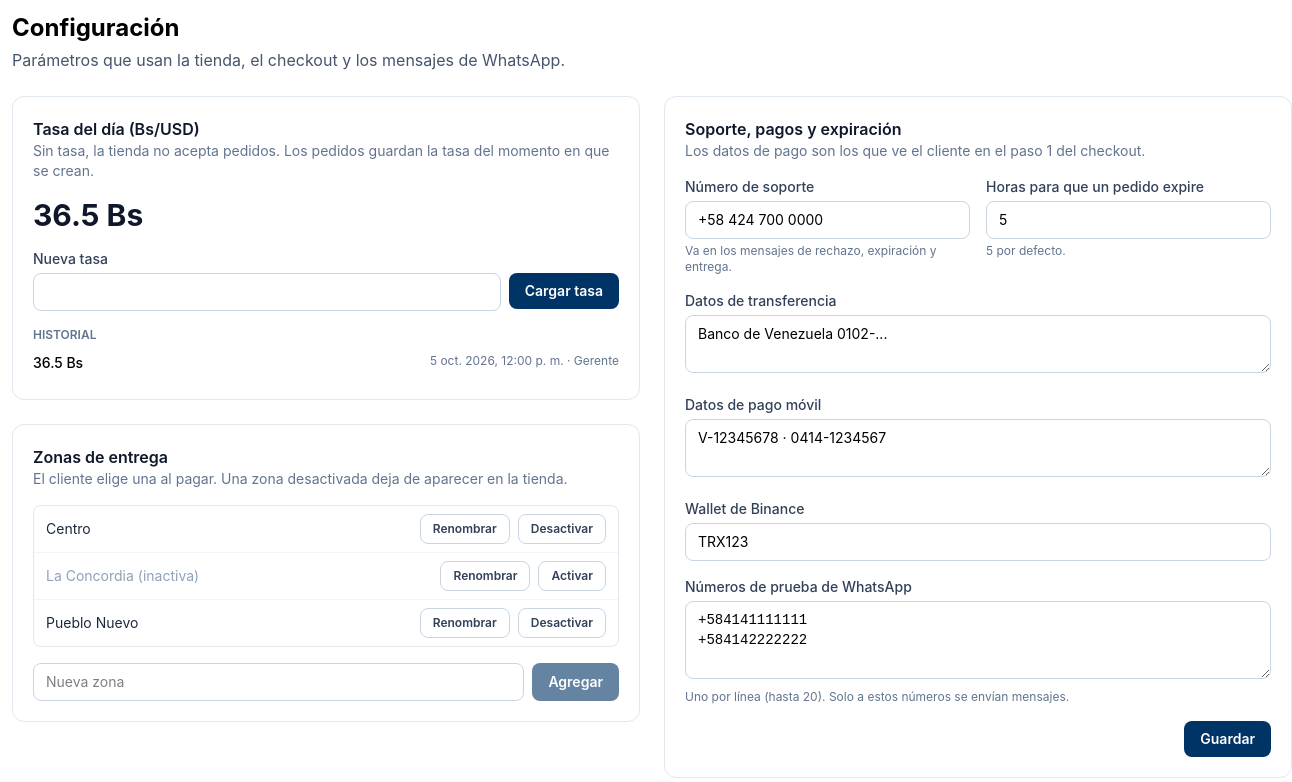
Test: Configuracion: tasa del día › guarda la nueva tasa, avisa y recarga la configuración y el historial
Step 1. Type "37.25" into the number field labelled "Nueva tasa" → (267,292), box [33,273,501,311]
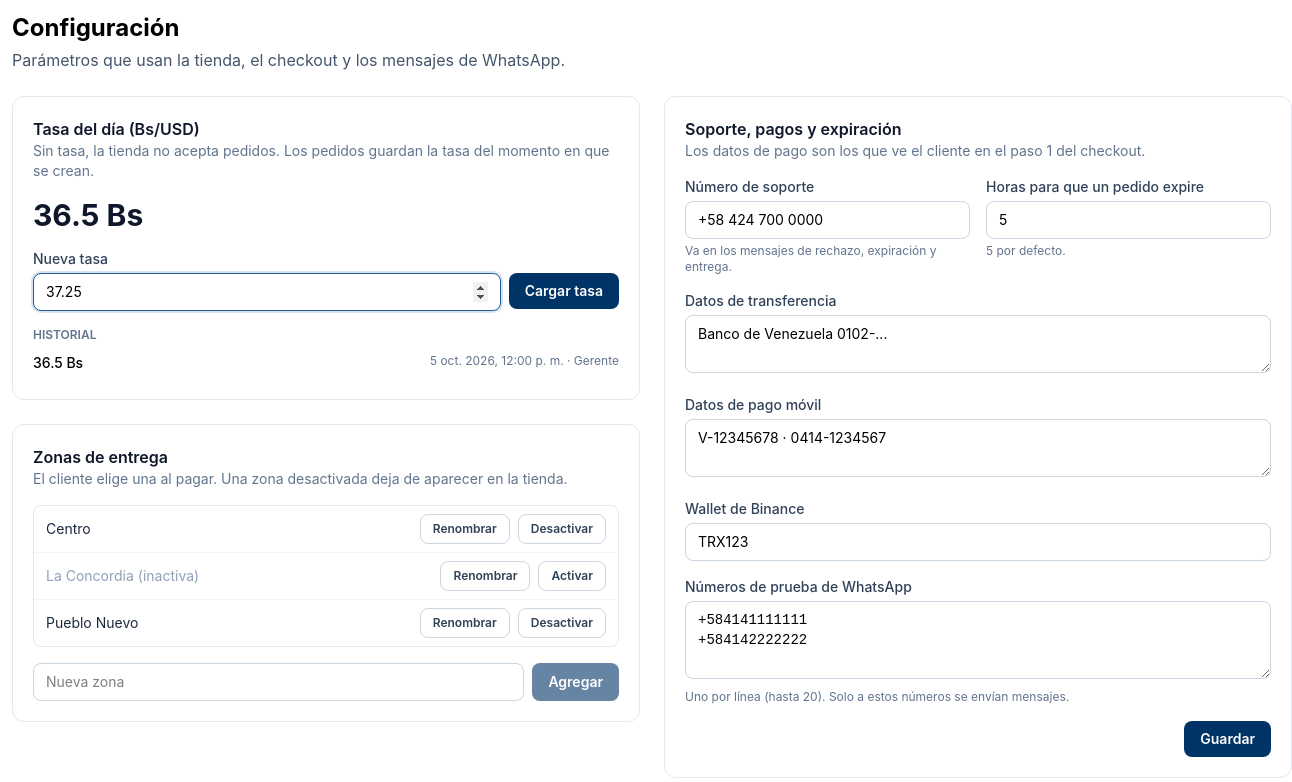
Step 2. Click the button "Cargar tasa" → (564,291), box [509,273,619,309]
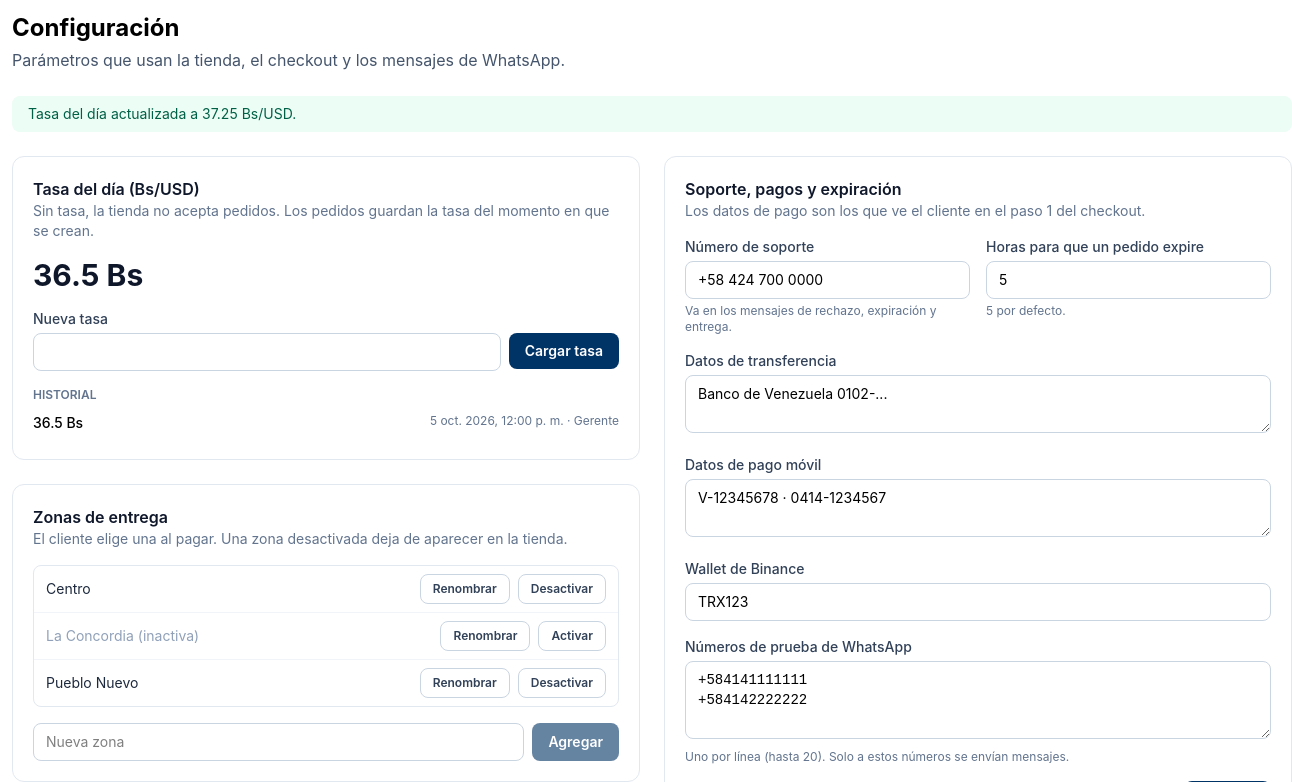
expect the message reads "Tasa del día actualizada a 37.25 Bs/USD.": met, box [28,105,296,122]
expect the number field labelled "Nueva tasa" is not empty: met, box [33,333,501,371]
